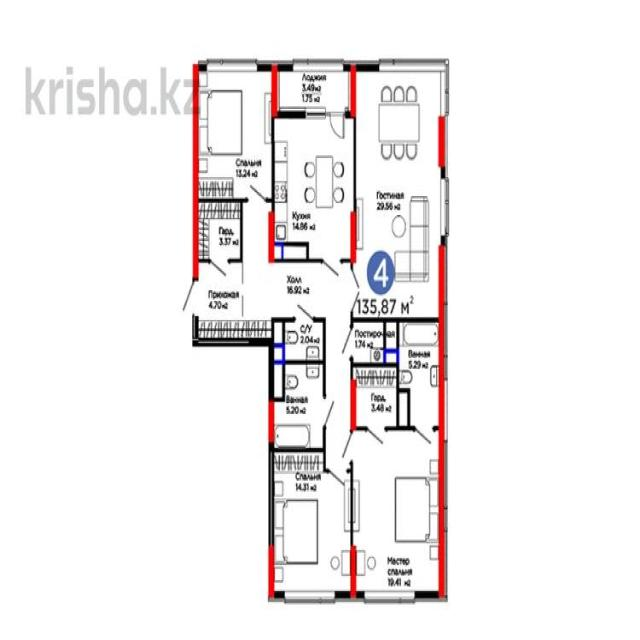balcony: (278, 64, 354, 114)
bathroom: (269, 362, 324, 449), (398, 320, 441, 427), (272, 321, 324, 362)
hallway: (197, 263, 354, 320)
kitchen: (274, 117, 352, 258)
living_room: (358, 65, 441, 314), (355, 429, 442, 595), (274, 449, 350, 595), (196, 67, 273, 197)
other: (351, 363, 395, 424), (198, 206, 240, 258), (356, 323, 395, 361)
